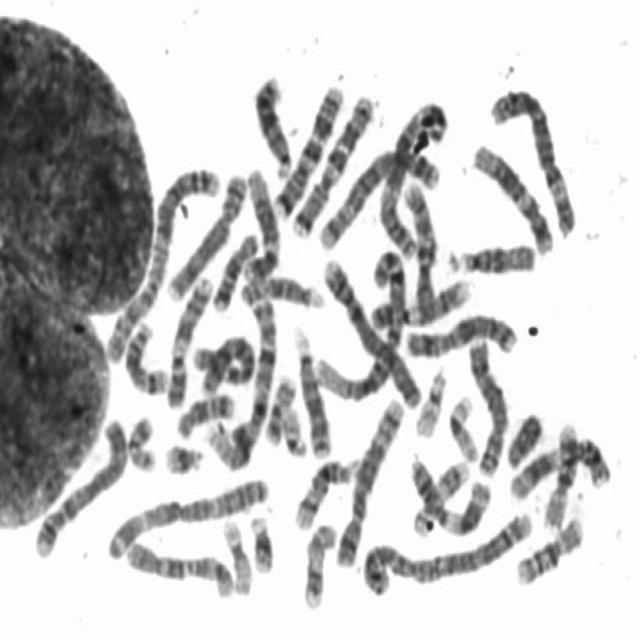A1: (308, 238, 408, 404), (204, 286, 278, 472)
A2: (100, 162, 224, 363), (358, 506, 536, 599)
A3: (104, 468, 274, 564), (378, 96, 454, 262)
B4: (316, 248, 425, 411), (30, 410, 130, 561)
B5: (312, 139, 443, 252), (331, 390, 406, 570)
C10: (121, 533, 237, 601), (398, 174, 439, 309)
C11: (507, 430, 616, 502), (407, 451, 493, 537)
C12: (468, 135, 557, 256), (237, 159, 283, 284)
C6: (486, 79, 579, 240), (192, 328, 260, 395)
C7: (284, 86, 376, 238), (268, 76, 346, 221)
C8: (161, 165, 248, 301), (464, 332, 510, 477)
C9: (165, 271, 216, 411), (367, 270, 473, 331)
D13: (288, 320, 335, 459), (249, 67, 295, 179)
D14: (292, 452, 362, 532), (119, 316, 171, 396)
D15: (444, 234, 540, 277), (236, 268, 326, 310)
E16: (511, 510, 586, 588), (540, 418, 582, 532)
E17: (409, 451, 479, 538), (298, 516, 340, 610)
E18: (208, 226, 261, 314), (171, 386, 237, 440)
F19: (217, 513, 254, 596), (443, 388, 481, 464)
F20: (261, 367, 298, 446), (123, 408, 159, 474)
G21: (246, 507, 276, 576), (160, 435, 205, 477)
G22: (410, 362, 448, 439), (278, 400, 309, 460)
X: (402, 305, 521, 360)
Y: (503, 404, 546, 472)
